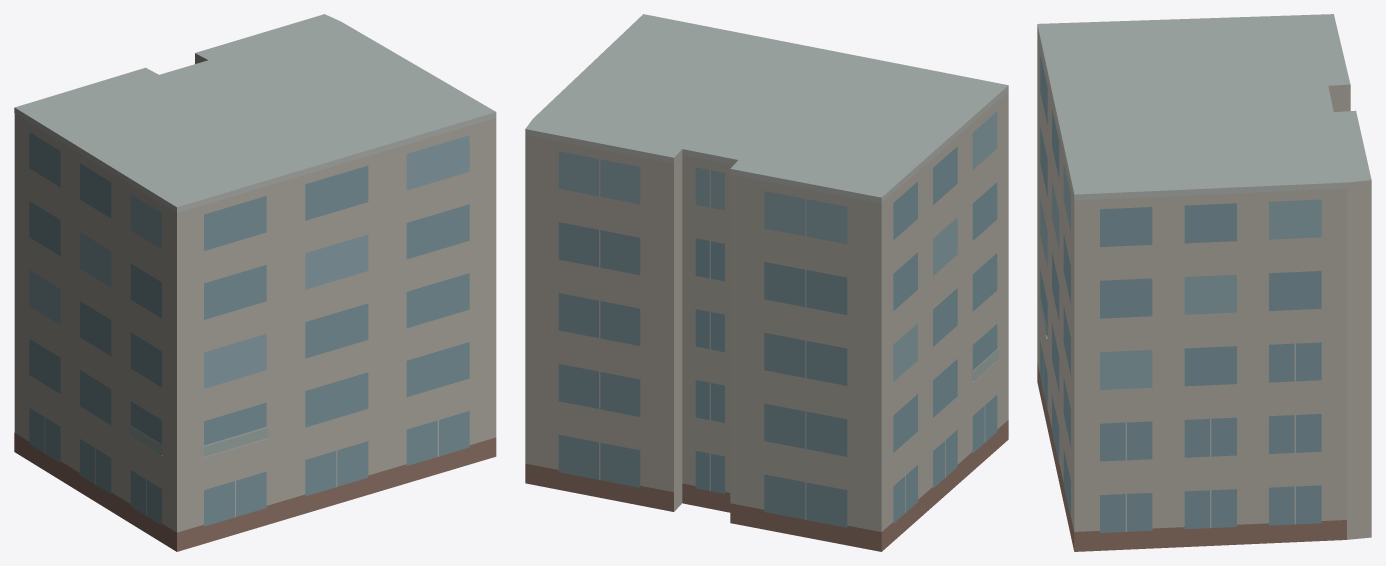
Rendered from survey-upis-32621548.glb.
3 renders of one model, left to right at view 1: azimuth 30°, elevation 25°; view 2: azimuth 150°, elevation 25°; view 3: azimuth 270°, elevation 25°, orthographic. The views are drawn at different scales.
Parts seen in each view (by area): view 1: survey-upis-32621548.tmp; view 2: survey-upis-32621548.tmp; view 3: survey-upis-32621548.tmp.
Boxes of the visible parts, left/top/right/bottom form: survey-upis-32621548.tmp: left=14, top=14, right=496, bottom=551; survey-upis-32621548.tmp: left=525, top=14, right=1008, bottom=551; survey-upis-32621548.tmp: left=1037, top=14, right=1371, bottom=551.
Size of the model in its own units: 15.72 by 14.5 by 12.31.
